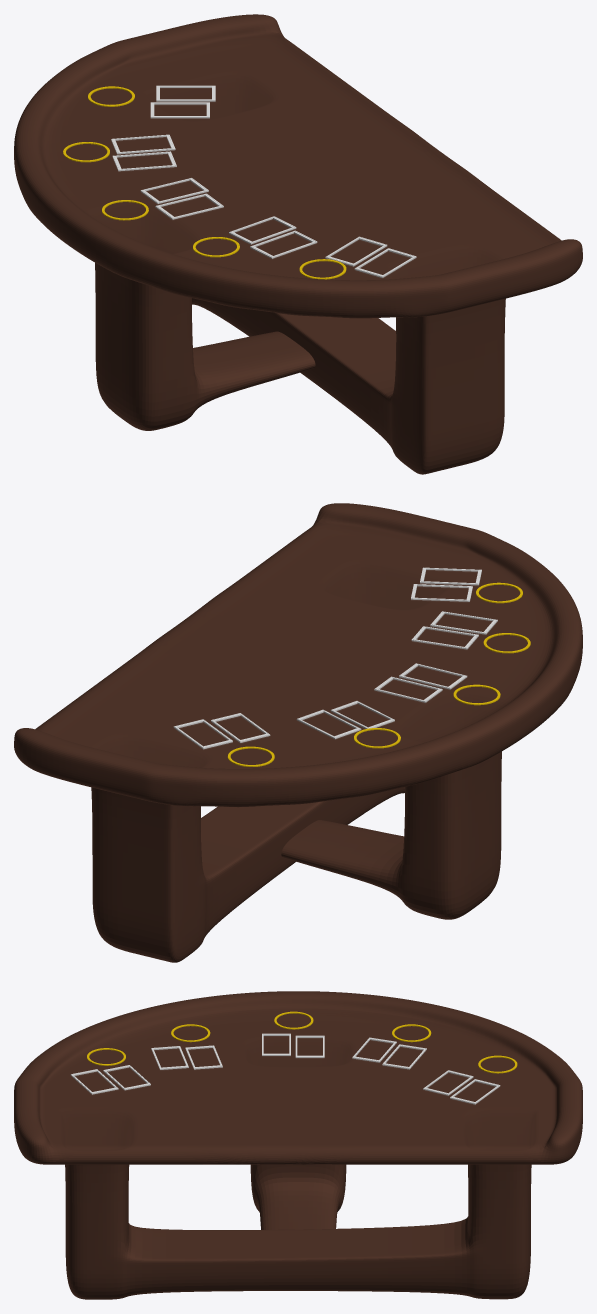
The model's file is Green_BJ_Table_w_Rings.fbx.
The picture shows the model from 3 angles, top to bottom: view 1: azimuth 30°, elevation 25°; view 2: azimuth 150°, elevation 25°; view 3: azimuth 270°, elevation 25°; orthographic projection. The views are drawn at different scales.
Visible parts, largest first — view 1: Cylinder.012; view 2: Cylinder.012; view 3: Cylinder.012.
Boxes of the visible parts, <box> form: Cylinder.012: <box>14,14,582,474</box>; Cylinder.012: <box>14,503,582,962</box>; Cylinder.012: <box>14,991,582,1299</box>.
Bounding box in the file's own units: 18032 × 10513 × 28382.
